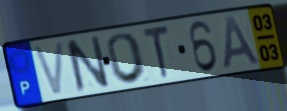6: (188, 19, 220, 75)
A: (222, 15, 264, 71)
N: (63, 33, 112, 95)
O: (105, 31, 149, 86)
T: (141, 23, 172, 82)
V: (30, 39, 66, 99)
